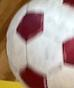Sports-Ball: (6, 0, 73, 87)
